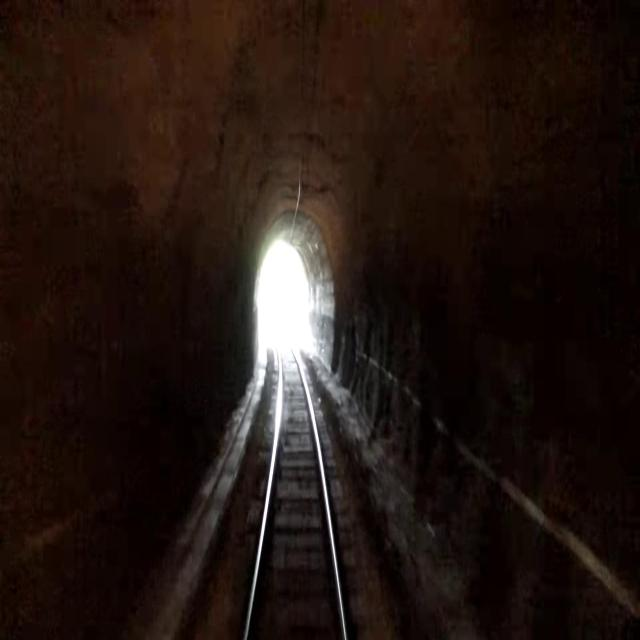rail-track: (247, 346, 343, 639)
